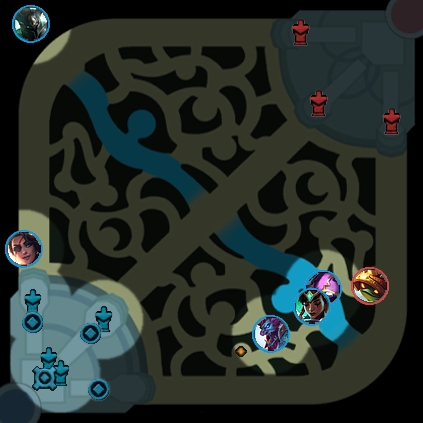Karma: (293, 288, 331, 326)
Kennen: (304, 270, 342, 308)
Mordekaiser: (12, 5, 50, 43)
Rammus: (351, 267, 389, 305)
Samira: (5, 230, 43, 268)
Trundle: (252, 315, 290, 353)
